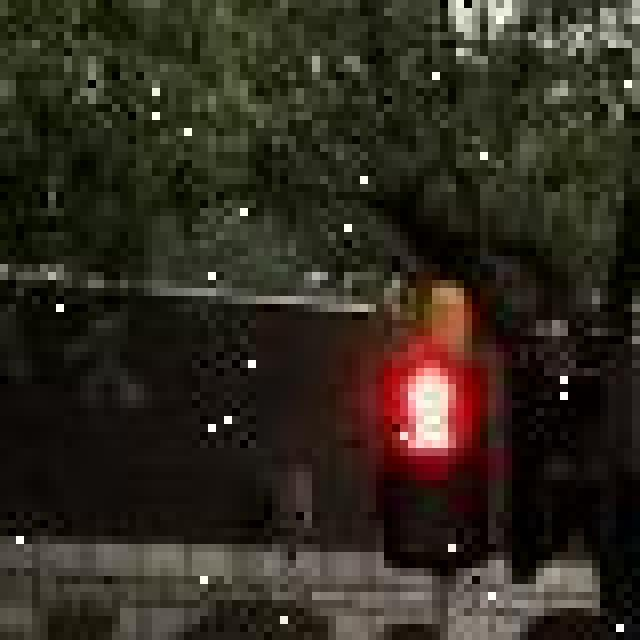redlight: (367, 356, 493, 584)
